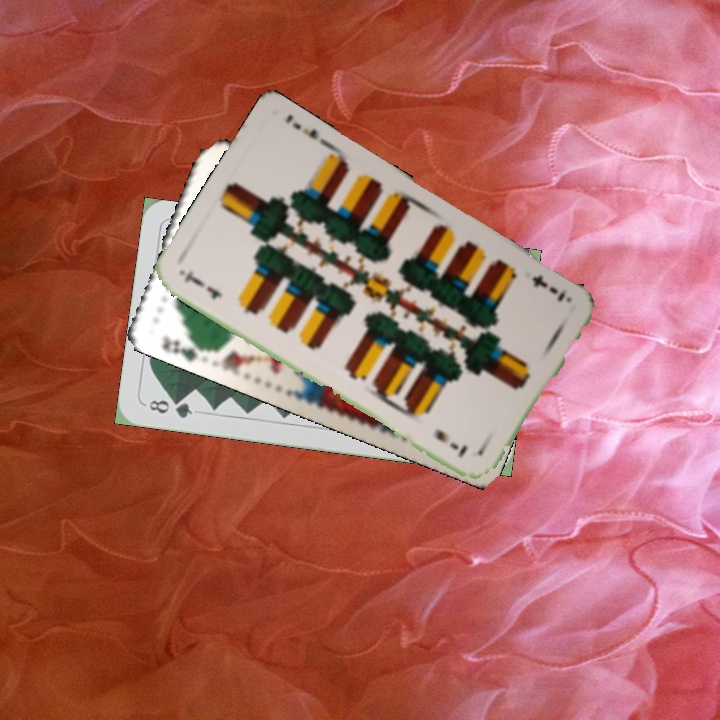E7: (178, 266, 225, 302), (527, 270, 568, 305)
G8: (144, 395, 195, 421)
GK: (158, 331, 209, 364)
